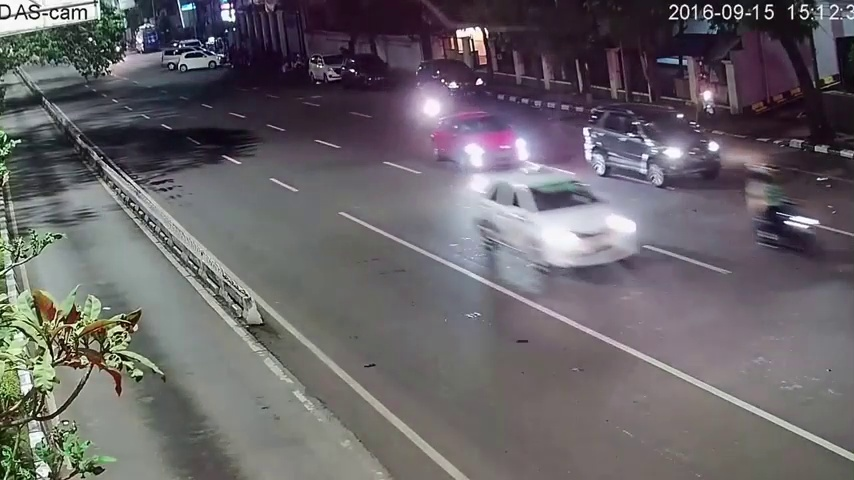car: (481, 164, 637, 269), (580, 99, 721, 194), (435, 111, 530, 176), (413, 57, 485, 105), (345, 52, 393, 88), (309, 51, 349, 86)
motorbike: (740, 154, 819, 257), (699, 69, 715, 129)
